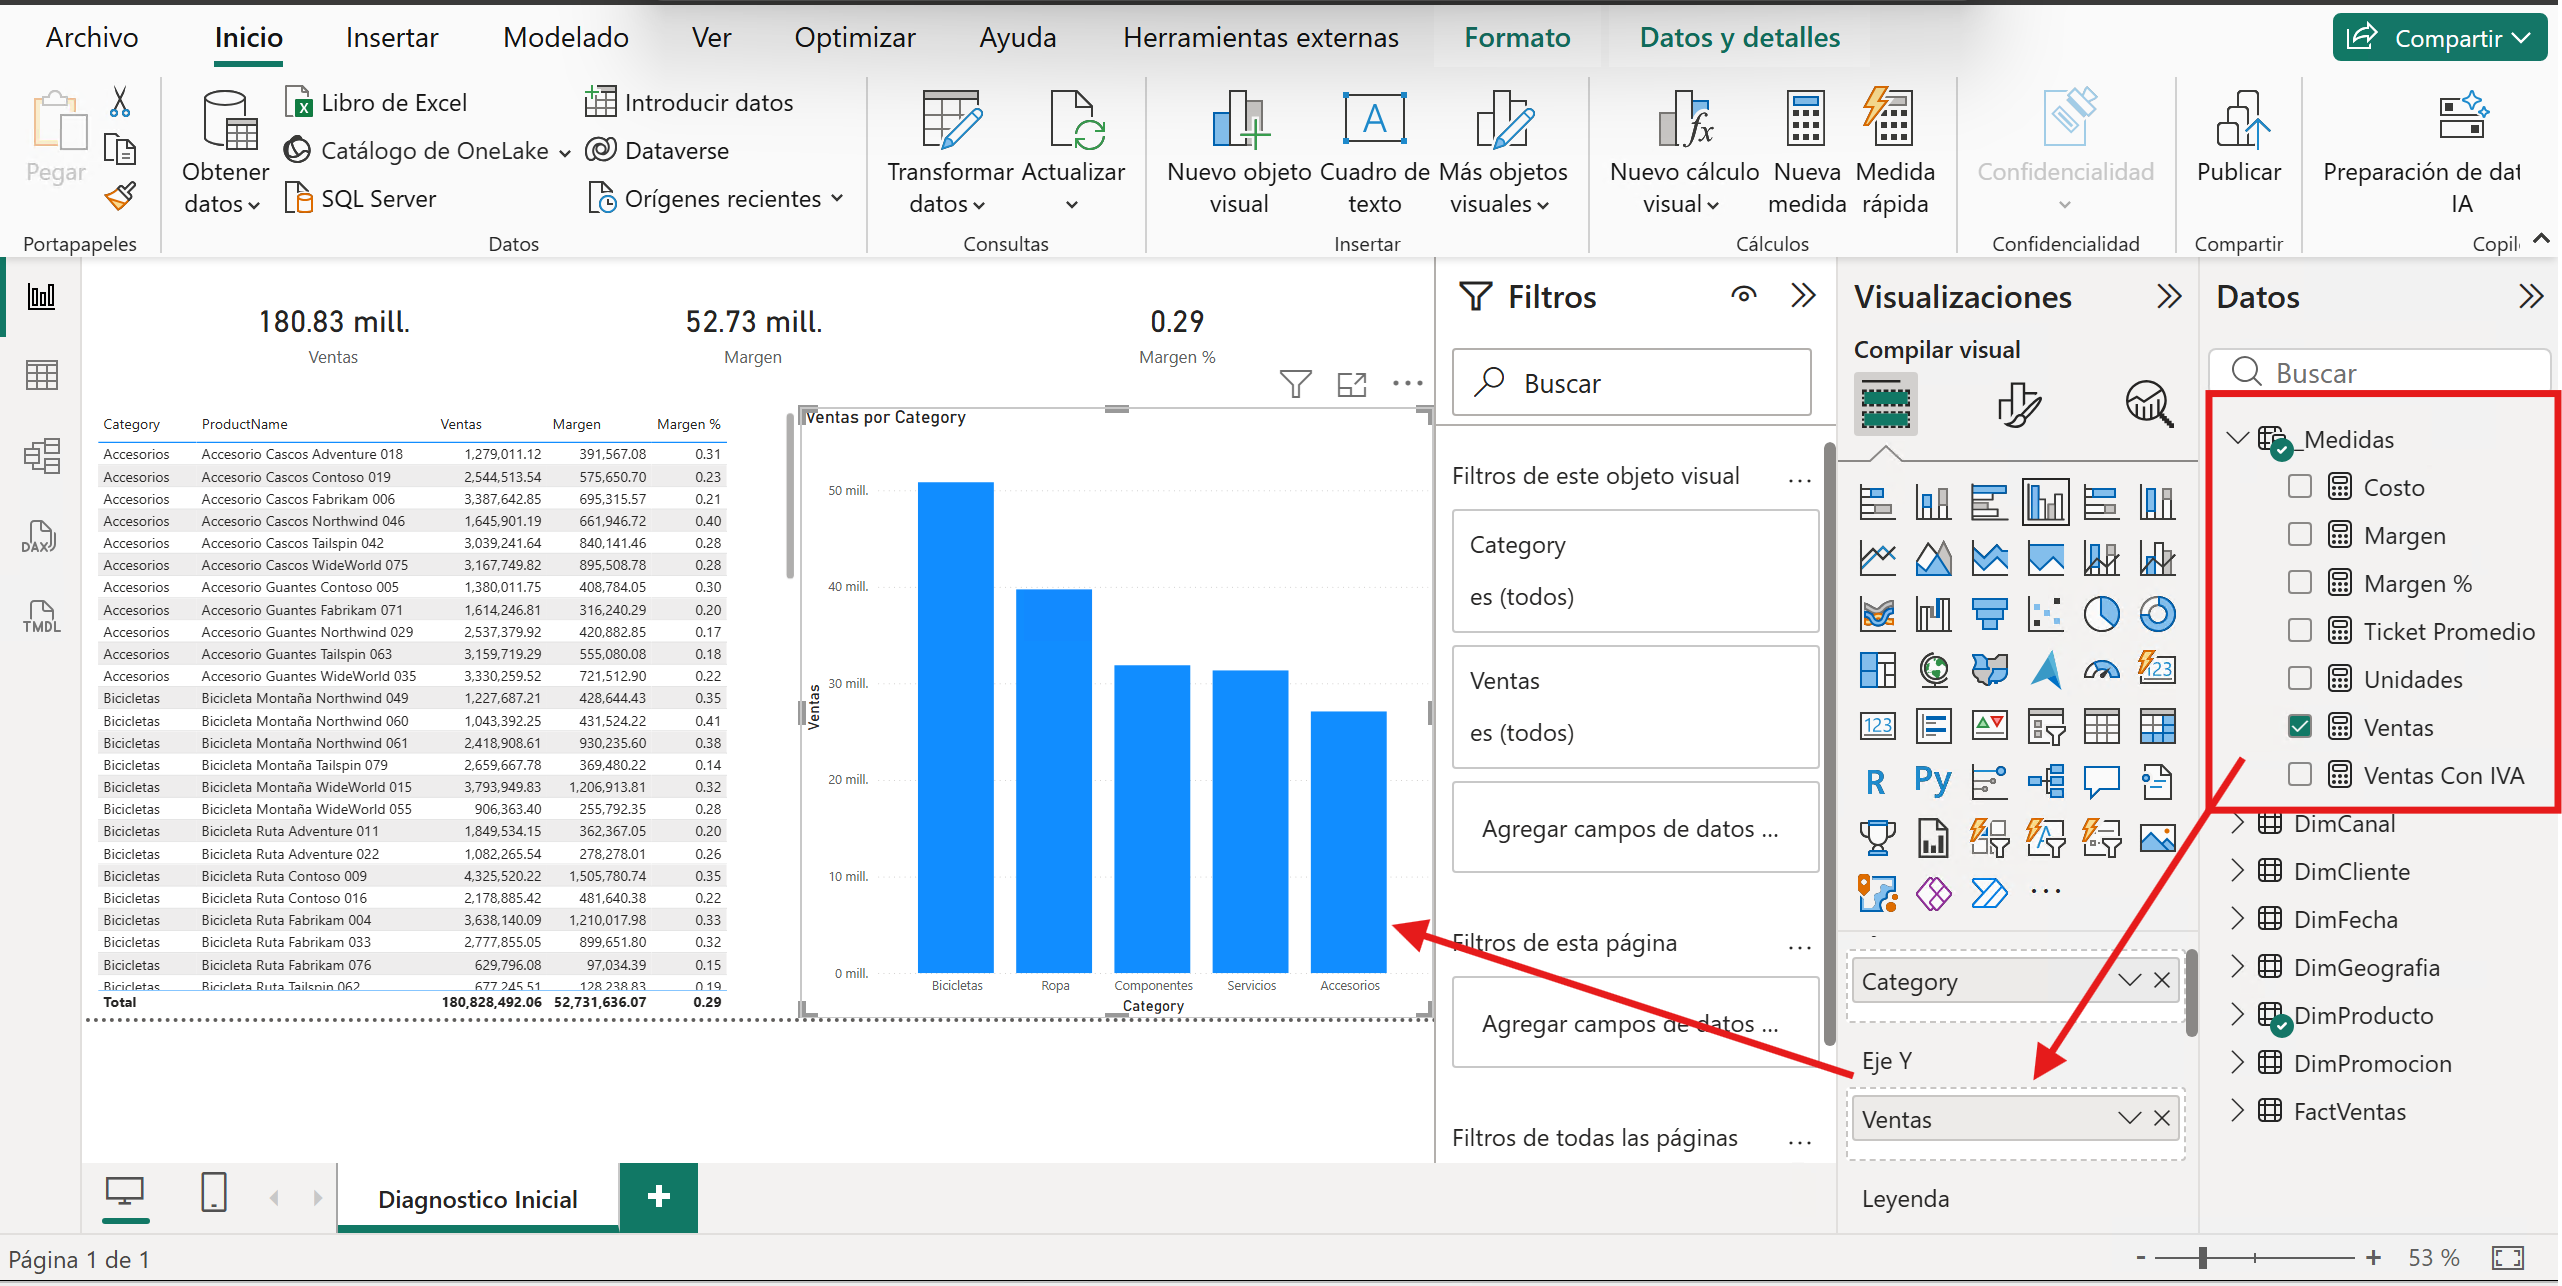

The page's visual inventory and layout, read from the dashboard file:
{"tool":"powerbi","page":{"name":"Diagnostico Inicial","canvas":[1280,720],"ordinal":0},"visuals":[{"type":"card","fields":{"Values":["FactVentas.Ventas_Total"]},"box":[38.8,25.6,400,90.9],"z":0},{"type":"card","fields":{"Values":["FactVentas.Margen Bruto"]},"box":[436.4,25.6,399.5,90.9],"z":1000},{"type":"card","fields":{"Values":["FactVentas.PorcentajeMargen"]},"box":[836,25.6,400,90.9],"z":2000},{"type":"tableEx","fields":{"Values":["DimProducto.Category","DimProducto.ProductName","FactVentas.Ventas_Total","FactVentas.Margen Bruto","FactVentas.PorcentajeMargen"]},"box":[9.5,142,670.3,577.5],"z":3000},{"type":"clusteredColumnChart","fields":{"Category":["DimProducto.Category"],"Y":["FactVentas.Ventas_Total"]},"box":[679.8,142,600.2,579.4],"z":4000}]}

Visuals, with their boxes on the page's 1280x720 design canvas (x1, y1, x2, y2). These are canvas units, not pixel positions in the 2562x1286 screenshot, which may show the page scaled, cropped or inside an application window:
card - FactVentas.Ventas_Total: (x1=39, y1=26, x2=439, y2=116)
card - FactVentas.Margen Bruto: (x1=436, y1=26, x2=836, y2=116)
card - FactVentas.PorcentajeMargen: (x1=836, y1=26, x2=1236, y2=116)
tableEx - DimProducto.Category x DimProducto.ProductName: (x1=10, y1=142, x2=680, y2=720)
clusteredColumnChart - DimProducto.Category x FactVentas.Ventas_Total: (x1=680, y1=142, x2=1280, y2=721)
